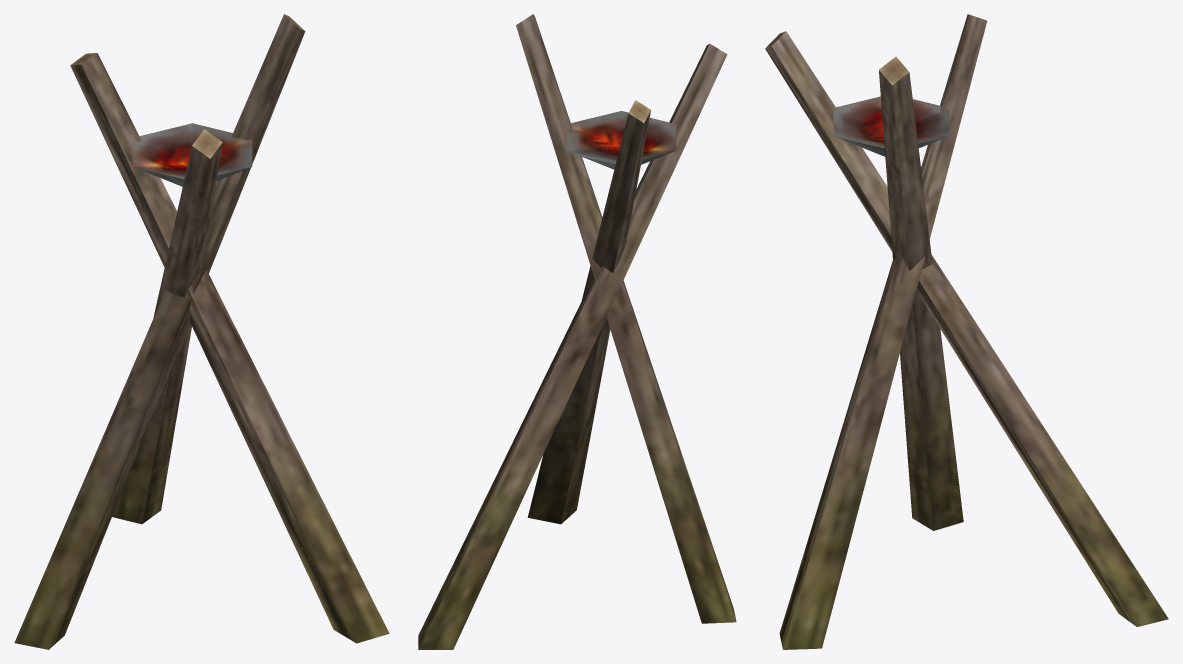
Rendered from huoba_R.fbx.
3 renders of one model, left to right at view 1: azimuth 30°, elevation 25°; view 2: azimuth 150°, elevation 25°; view 3: azimuth 270°, elevation 25°, orthographic. The views are drawn at different scales.
Parts seen in each view (by area): view 1: huoba_R; view 2: huoba_R; view 3: huoba_R.
Part boxes in pixels (x1,y1,x2,y2): huoba_R: (14,14,389,649); huoba_R: (418,14,736,649); huoba_R: (765,14,1168,649).
Size of the model in its own units: 1.16 by 2.22 by 1.42.
